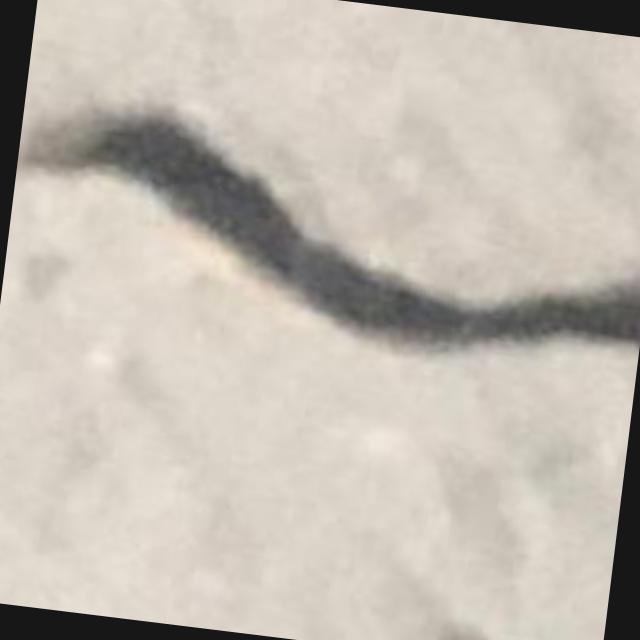crack: (27, 110, 639, 349)
